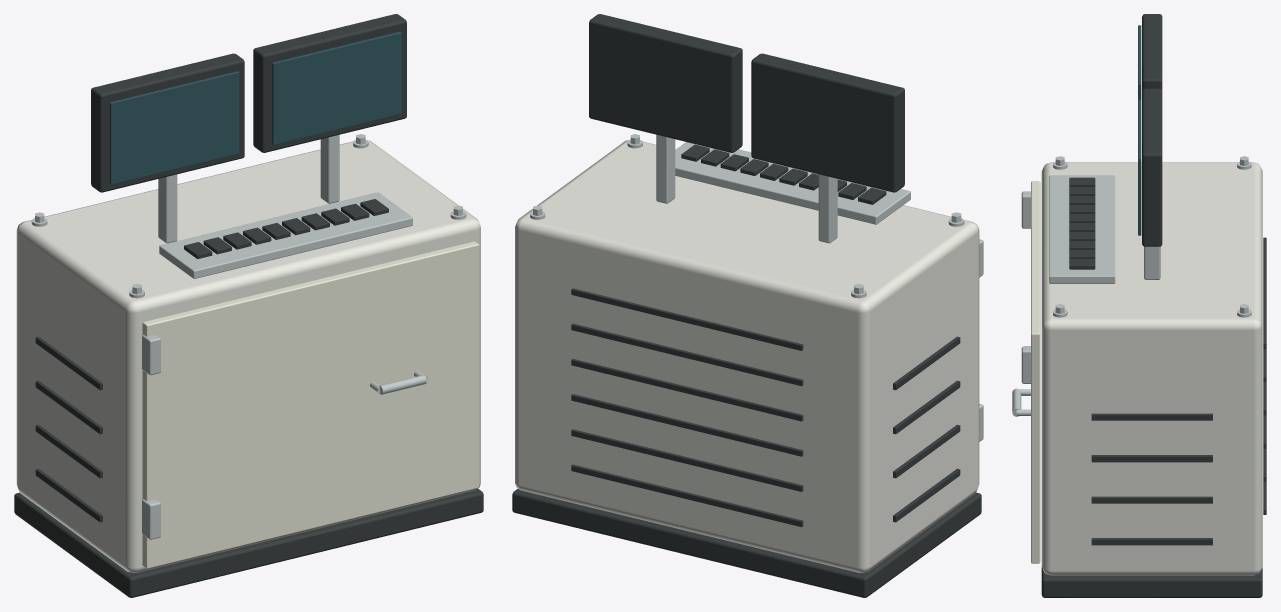
File: generation-ship-hydroponics-generation-ship-hydroponic-143684ab__31499.glb
The picture shows the model from 3 angles, left to right: view 1: azimuth 30°, elevation 25°; view 2: azimuth 150°, elevation 25°; view 3: azimuth 270°, elevation 25°; orthographic projection. The views are drawn at different scales.
Visible parts, largest first — view 1: generation-ship-hydroponics-gas-balance-console; view 2: generation-ship-hydroponics-gas-balance-console; view 3: generation-ship-hydroponics-gas-balance-console.
Part boxes in pixels (left/top/right/bottom): generation-ship-hydroponics-gas-balance-console: left=14, top=14, right=483, bottom=597; generation-ship-hydroponics-gas-balance-console: left=512, top=14, right=983, bottom=597; generation-ship-hydroponics-gas-balance-console: left=1012, top=14, right=1266, bottom=597.
Size of the model in its own units: 1.07 by 1.3 by 0.6905.
